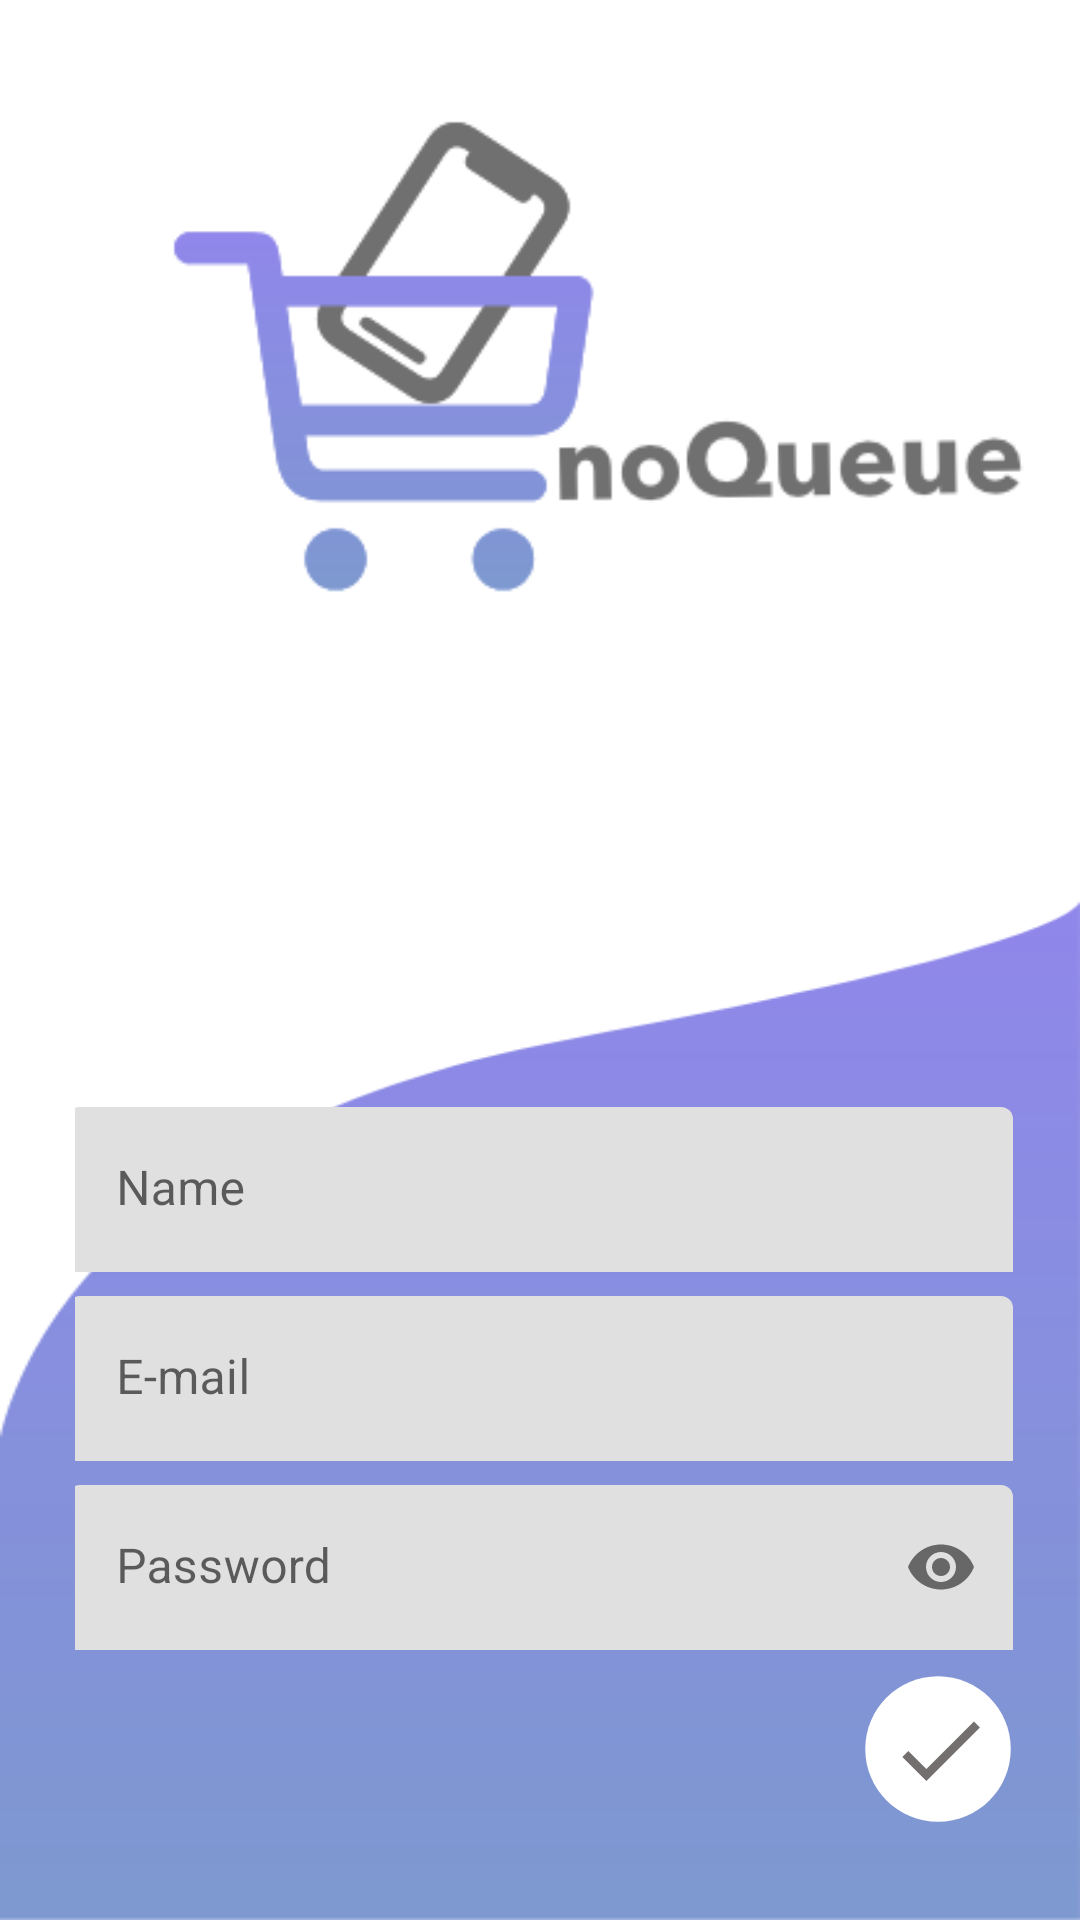

Screen size 1080*1920. Icon name, then its box in pixels as bbox=[x1, y1, x2, y2]:
checkmark: bbox=[865, 1676, 1011, 1822]
